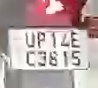1: (49, 33, 58, 50), (61, 51, 70, 68)
3: (36, 51, 49, 67)
4: (58, 32, 71, 49)
5: (70, 49, 81, 68)
8: (47, 49, 60, 69)
C: (24, 50, 37, 69)
E: (69, 30, 83, 49)
P: (36, 32, 47, 50)
U: (23, 32, 36, 50)
